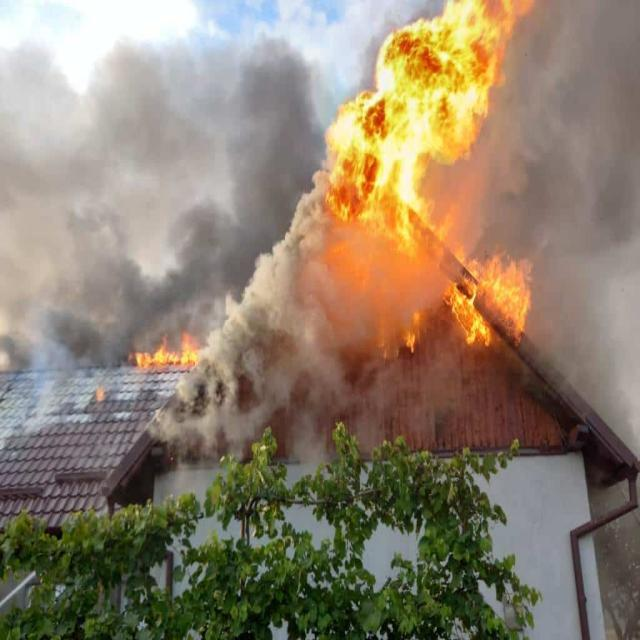Fire: (326, 5, 534, 233), (442, 226, 556, 358), (132, 325, 226, 375)
Smoke: (0, 1, 361, 428), (462, 0, 636, 422)
